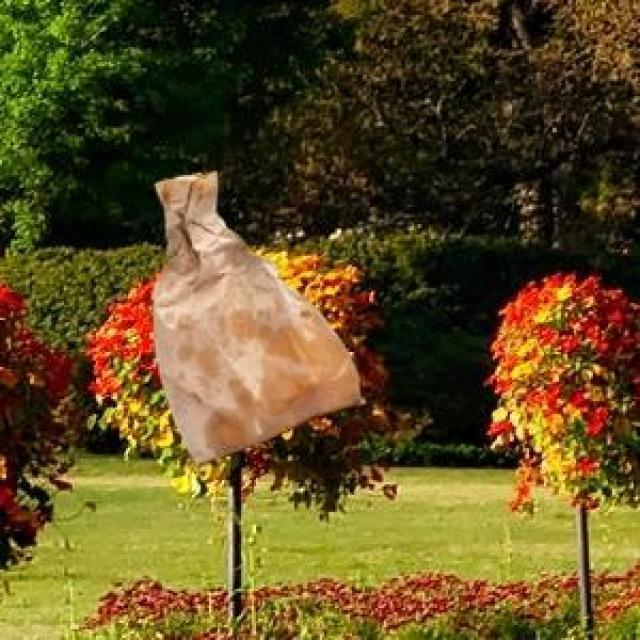paper: (149, 169, 361, 463)
